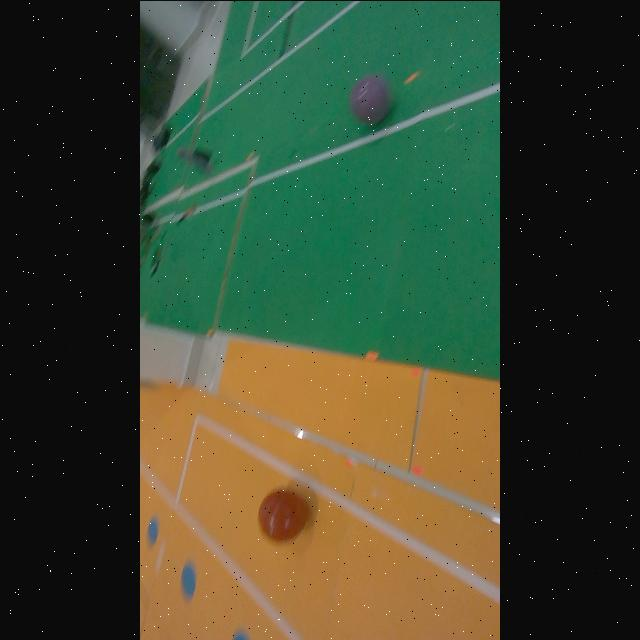P: (350, 74, 390, 124)
R: (259, 488, 308, 542)
